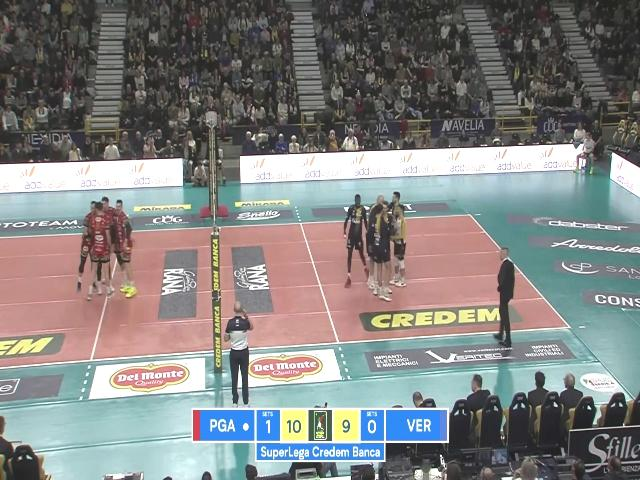volleyball court: (0, 211, 572, 368)
